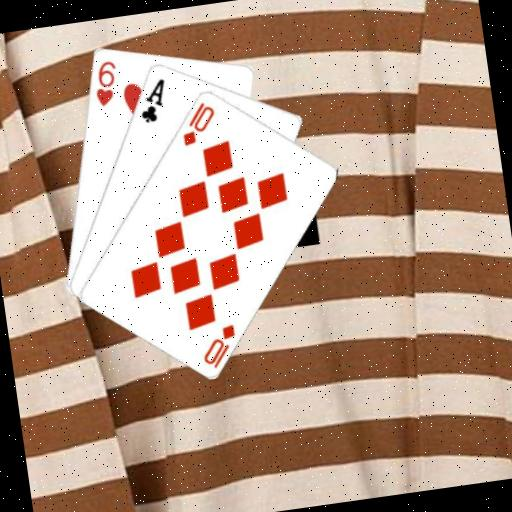10D: (175, 97, 221, 148), (195, 320, 241, 371)
6H: (88, 57, 122, 109)
AC: (133, 75, 172, 126)
